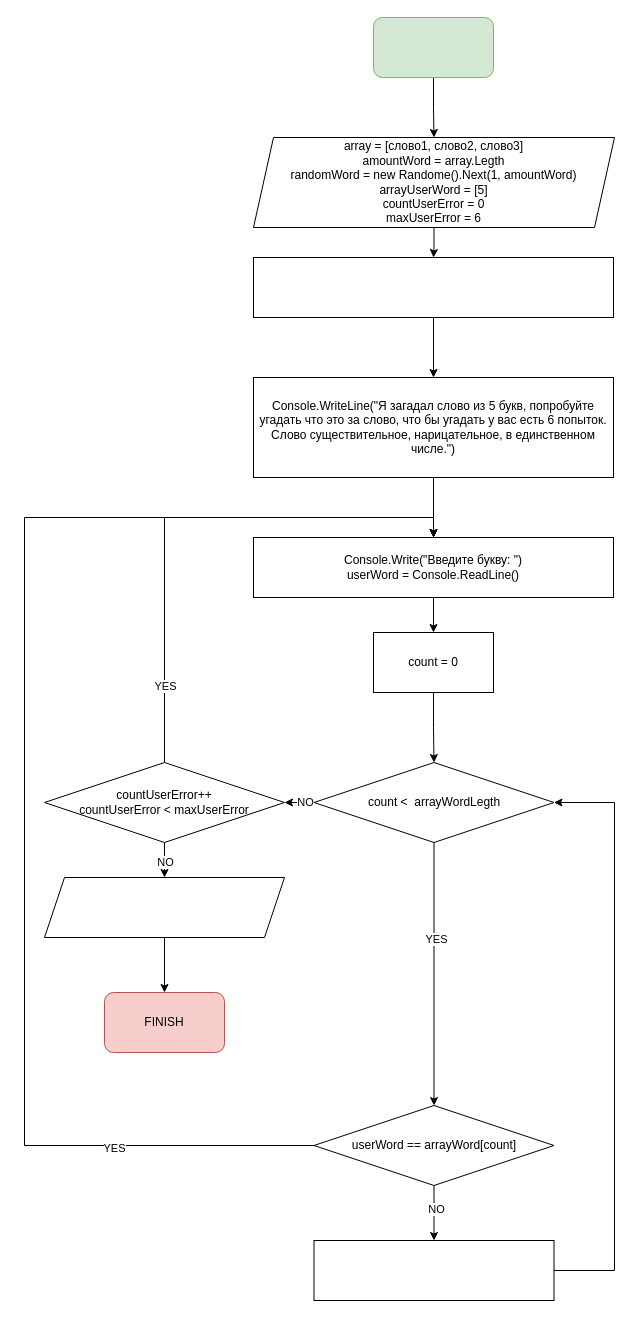
This 640x1318 diagram has some shape labels left out. Each missing label, with the centre of its shape:
arrayWord = ToCharArray(array[randomWord] arrayWordLegth = arrayWord.Length: [433,287]
Console.WriteLine("Вы проиграли, загаданное слово " + array[randomWord]): [164,907]
count++: [433,1270]
START: [433,47]
